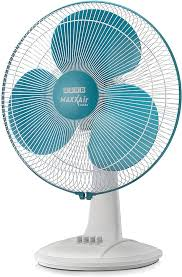TableFan: (6, 1, 175, 266)
